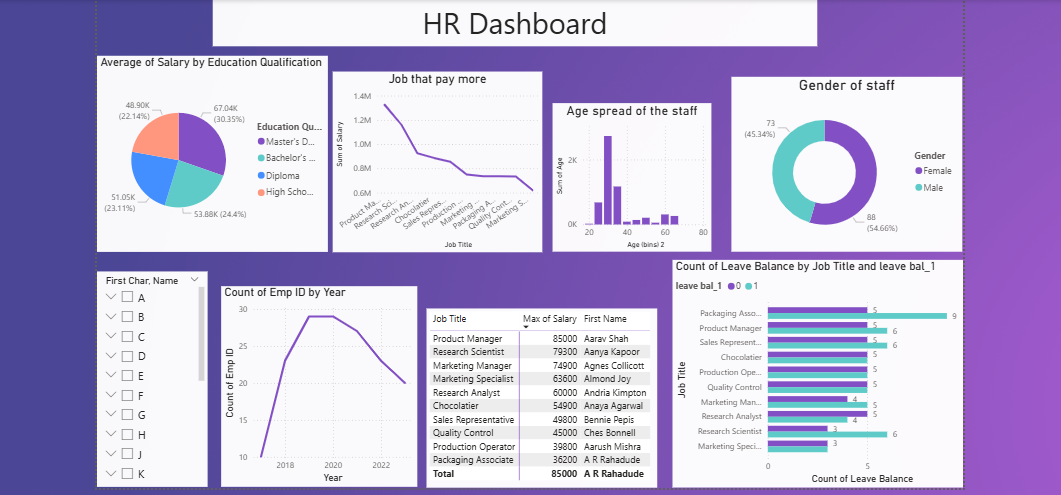

This screenshot's page, from the dashboard's own definition file:
{"tool":"powerbi","page":{"name":"Page 2","canvas":[1280,720],"ordinal":1},"visuals":[{"type":"donutChart","title":"Gender of staff","fields":{"Category":["data (2).Gender"],"Y":["CountNonNull(data (2).Gender)"]},"box":[938.3,113.3,341.7,258.3],"z":1000},{"type":"columnChart","title":"Age spread of the staff","fields":{"Category":["data (2).Age (bins) 2"],"Y":["Sum(data (2).Age)"]},"box":[673.3,151.7,235,220],"z":2000},{"type":"lineChart","title":"Job that pay more","fields":{"Category":["data (2).Job Title"],"Y":["Sum(data (2).Salary)"]},"box":[348.3,105,310,266.7],"z":3000},{"type":"pivotTable","fields":{"Rows":["data (2).Job Title"],"Values":["Max(data (2).Salary)","Min(data (2).Name)"]},"box":[486.7,455,341.7,265],"z":5000},{"type":"pieChart","fields":{"Category":["data (2).Education Qualification"],"Y":["Avg(data (2).Salary)"]},"box":[0,81.7,341.7,290],"z":6000},{"type":"lineChart","fields":{"Category":["data (2).Date of Join.Variation.Date Hierarchy.Year"],"Y":["CountNonNull(data (2).Emp ID)"]},"box":[183.3,423.3,290,296.7],"z":7000},{"type":"slicer","fields":{"Values":["data (2).First Characters","data (2).Name"]},"box":[0,401.7,163.3,318.3],"z":8000},{"type":"clusteredBarChart","fields":{"Category":["data (2).Job Title"],"Series":["data (2).leave bal_1"],"Y":["Count(data (2).Leave Balance)"]},"box":[850,383.3,430,336.7],"z":9000},{"type":"textbox","box":[171.7,0,893.3,68.3],"z":9001}]}

Visuals, with their boxes in screenshot pixels (x1, y1, x2, y2):
"Gender of staff" donutChart: 730:74:961:249
"Age spread of the staff" columnChart: 550:100:709:249
"Job that pay more" lineChart: 330:68:540:249
pivotTable - data (2).Job Title x Max(data (2).Salary): 424:305:655:485
pieChart - data (2).Education Qualification x Avg(data (2).Salary): 94:53:325:249
lineChart - data (2).Date of Join.Variation.Date Hierarchy.Year x CountNonNull(data (2).Emp ID): 218:284:415:485
slicer - data (2).First Characters x data (2).Name: 94:269:205:485
clusteredBarChart - data (2).Job Title x data (2).leave bal_1: 670:257:961:485
textbox: 210:0:815:44
